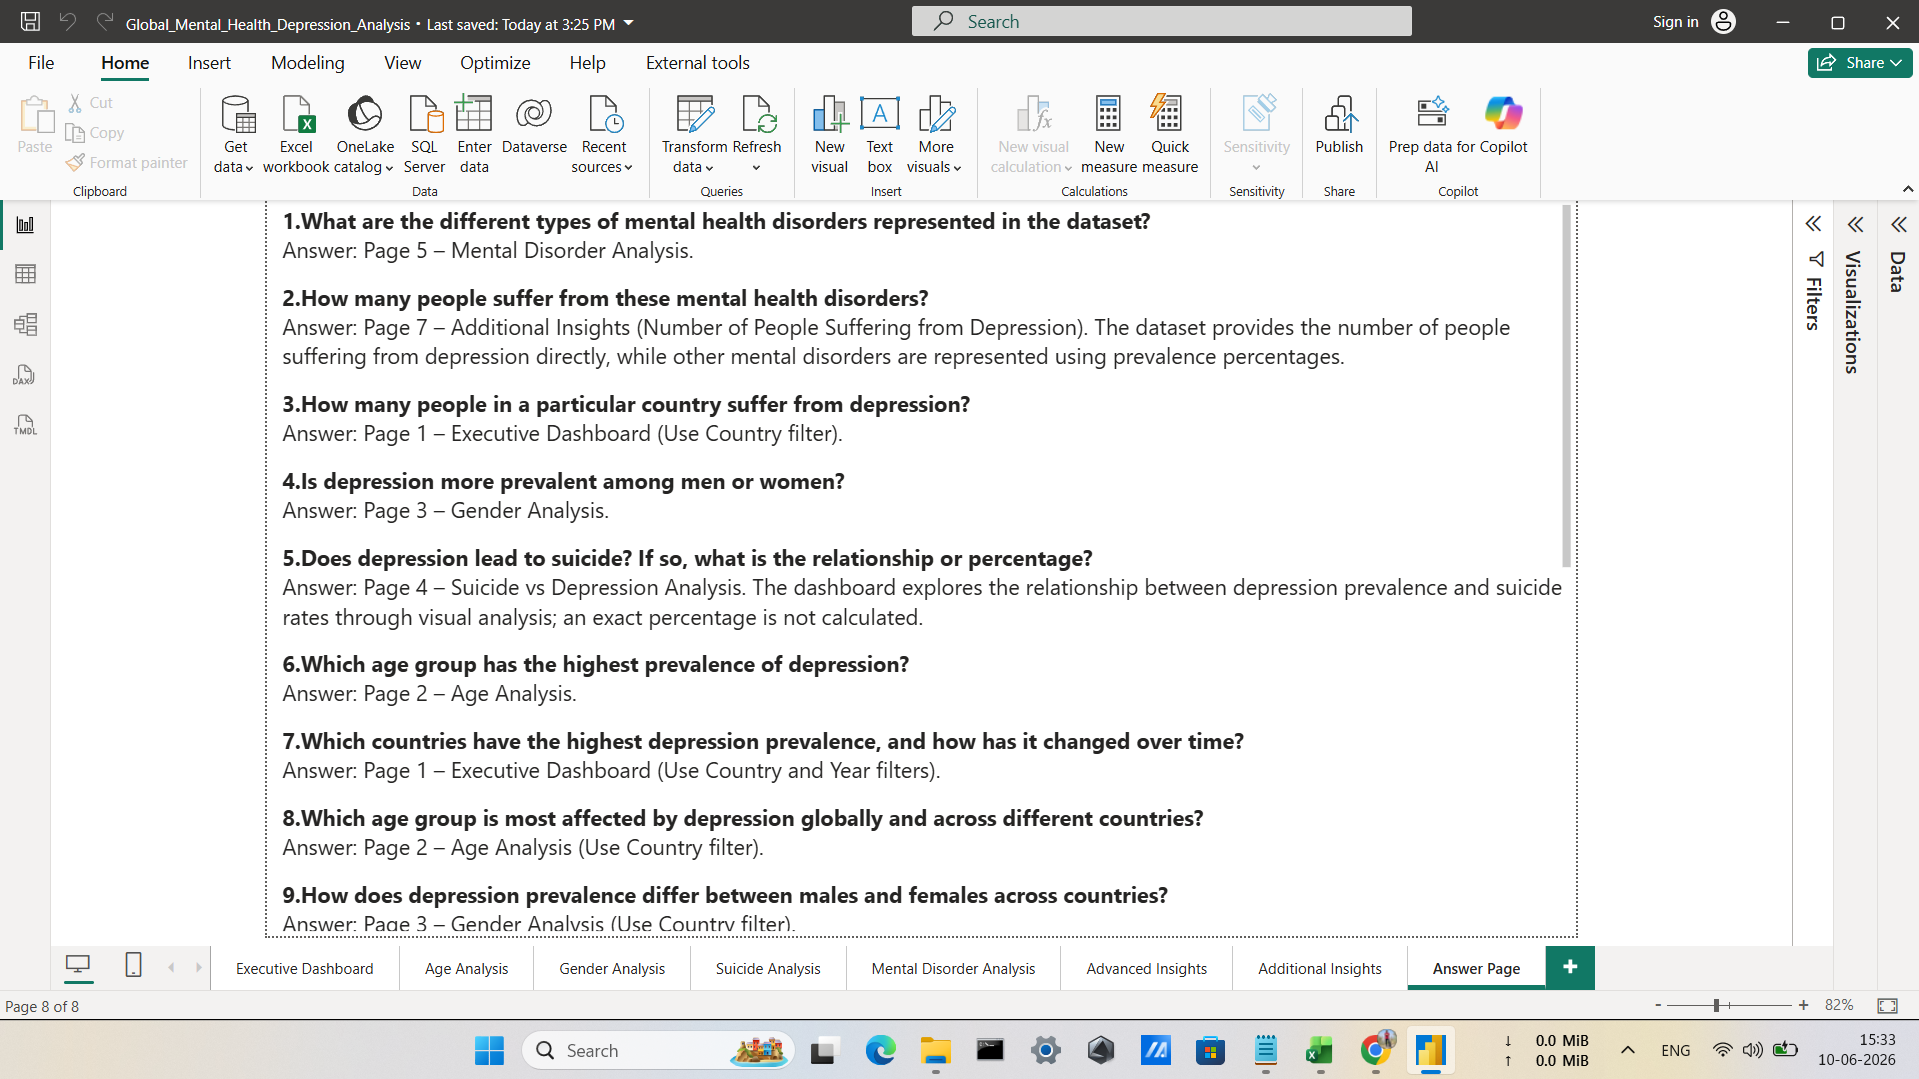

This screenshot's page, from the dashboard's own definition file:
{"tool":"powerbi","page":{"name":"Answer Page","canvas":[1280,720],"ordinal":7},"visuals":[{"type":"textbox","box":[9.8,0,1270.5,720.2],"z":0}]}

Visuals, with their boxes on the page's 1280x720 design canvas (x1, y1, x2, y2). These are canvas units, not pixel positions in the 1919x1079 screenshot, which may show the page scaled, cropped or inside an application window:
textbox: bbox(10, 0, 1280, 720)
